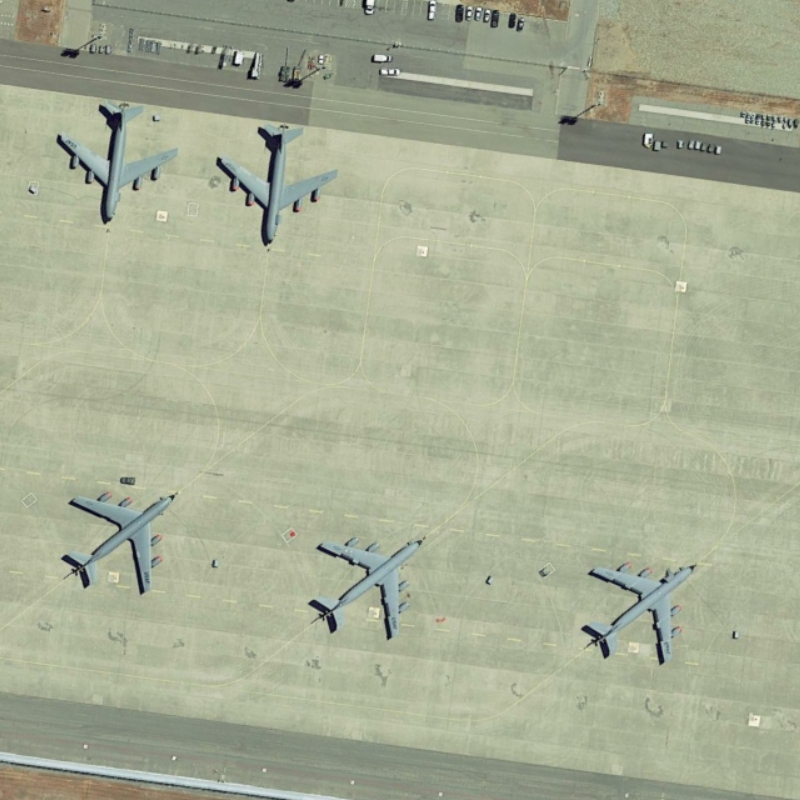A14: (210, 113, 343, 249), (50, 94, 182, 230), (571, 549, 704, 681), (309, 522, 433, 652), (59, 483, 179, 599)
